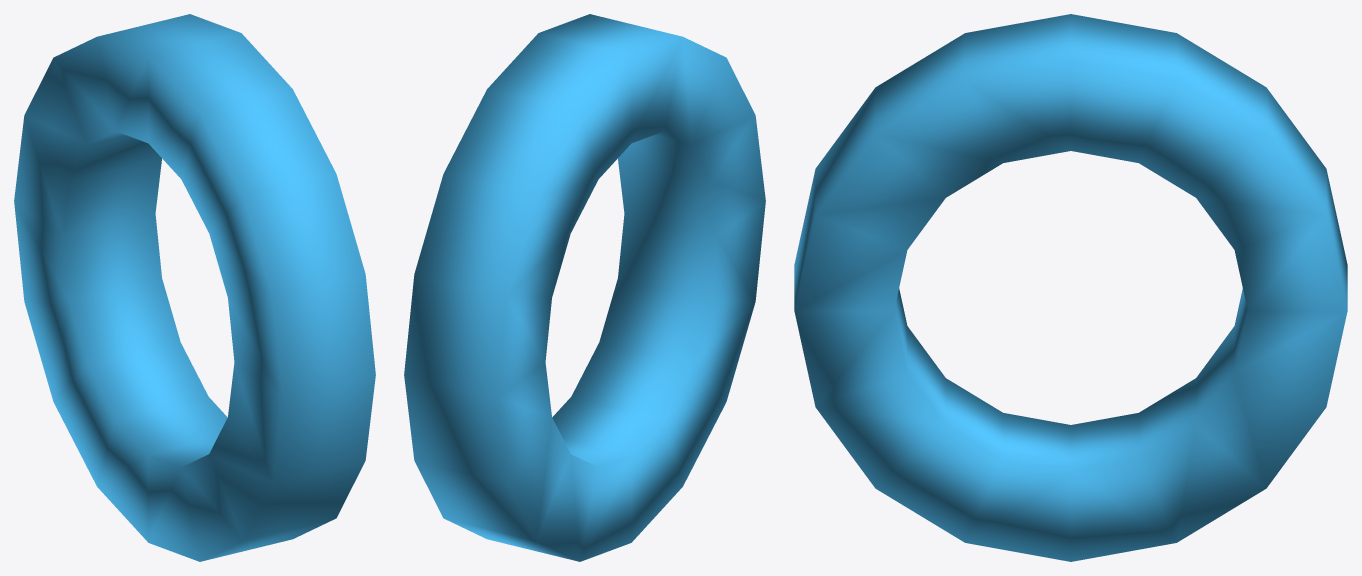
The model's file is Plasma.fbx.
The picture shows the model from 3 angles, left to right: view 1: azimuth 30°, elevation 25°; view 2: azimuth 150°, elevation 25°; view 3: azimuth 270°, elevation 25°; orthographic projection. The views are drawn at different scales.
Parts seen in each view (by area): view 1: Plasma; view 2: Plasma; view 3: Plasma.
Part boxes in pixels (bbox=[...]): Plasma: bbox=[14, 14, 375, 561]; Plasma: bbox=[404, 14, 765, 561]; Plasma: bbox=[794, 14, 1347, 561].
Bounding box in the file's own units: 1 × 5 × 5.
